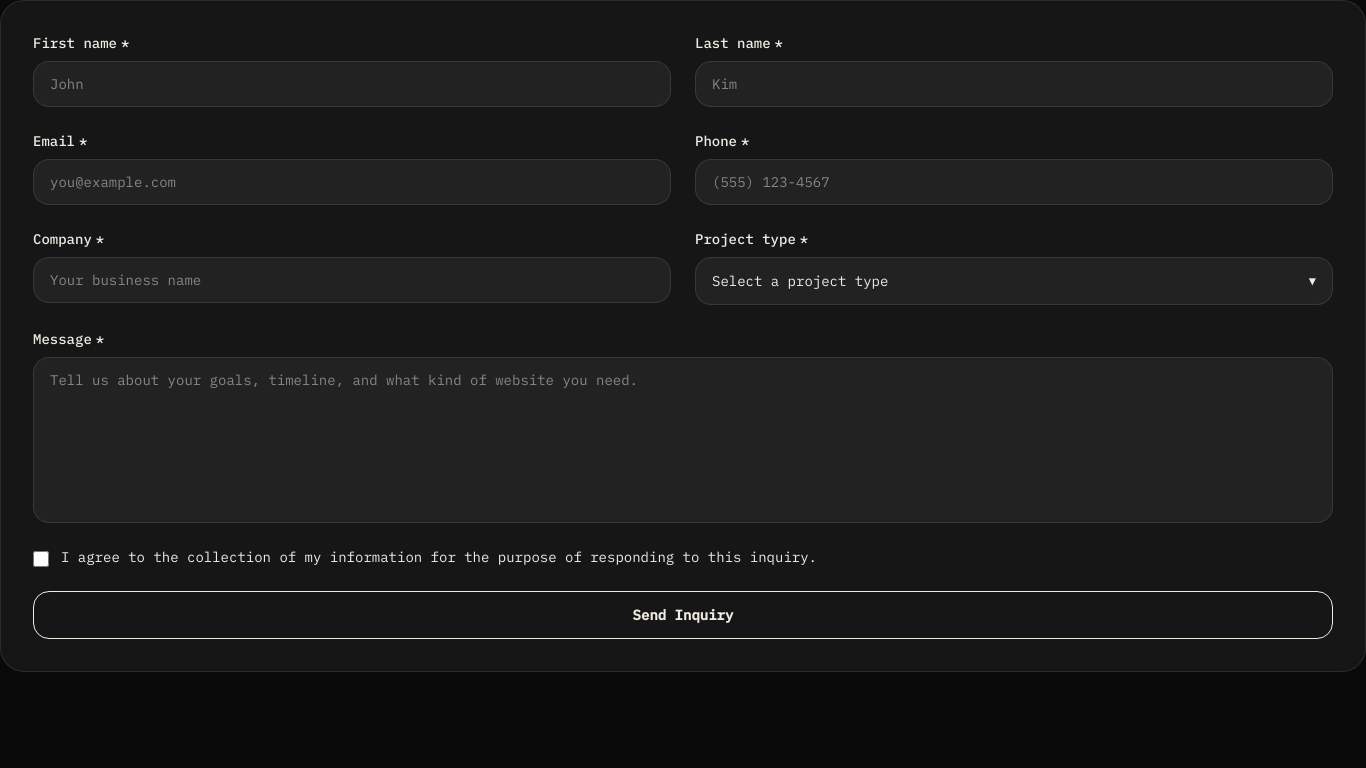
ContactForm › shows a phone validation error when fewer than 10 digits are entered
Type "555123456" into the field labelled "Phone*" at (1014, 182), box [695, 159, 1333, 205]
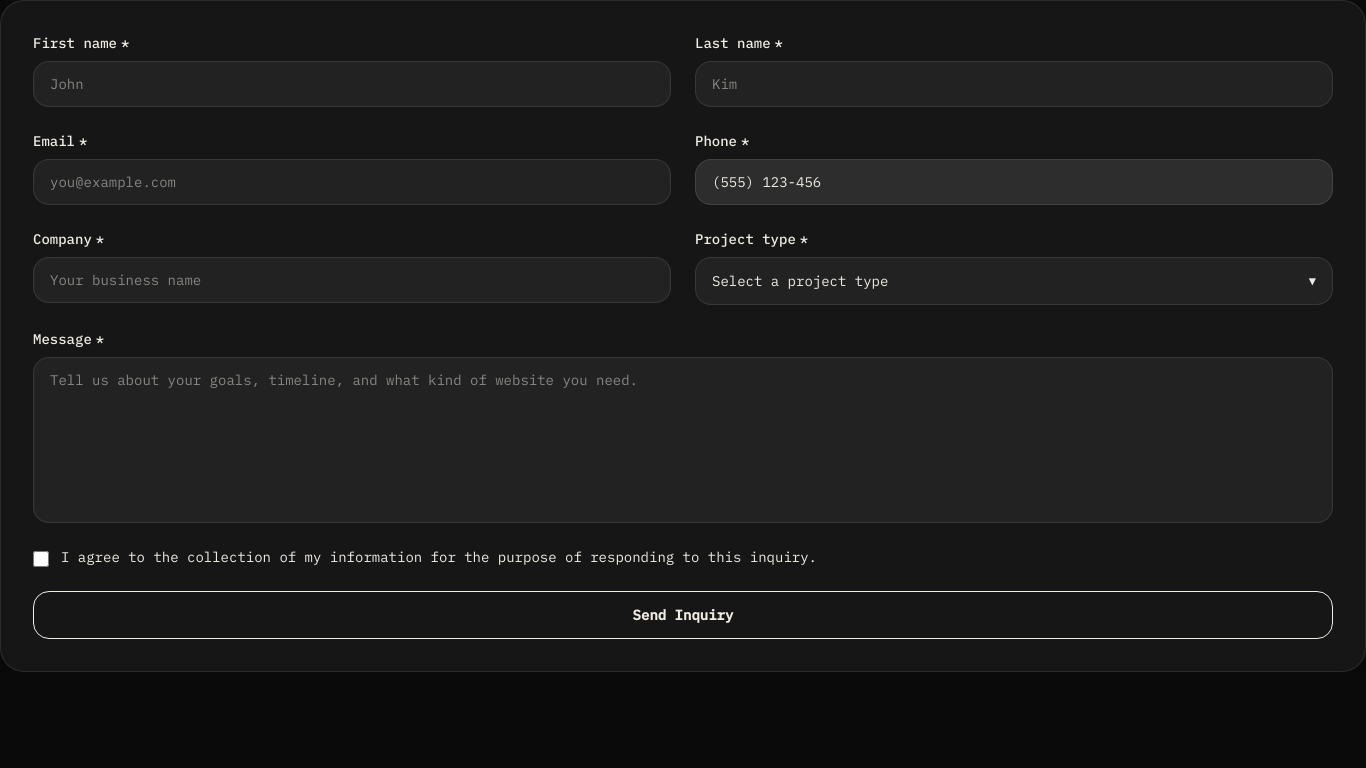
Press Tab
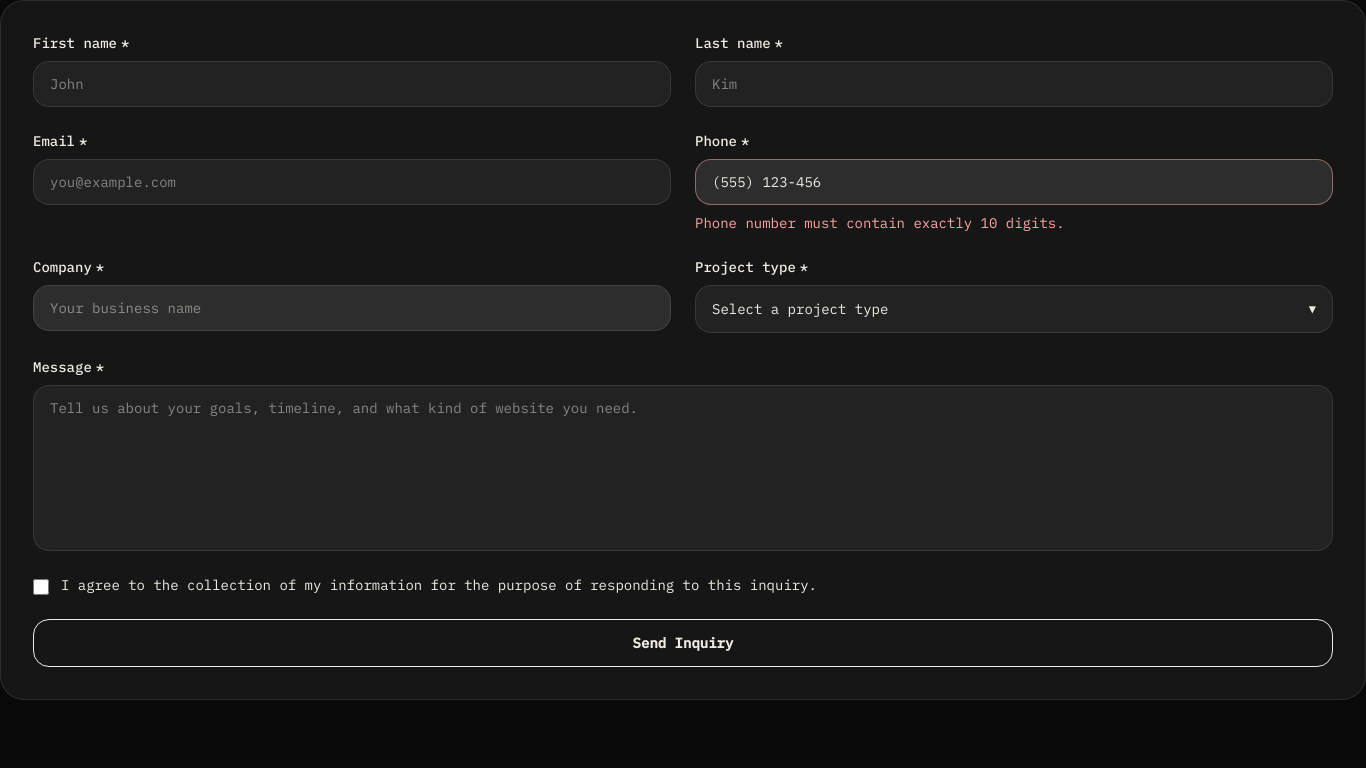
expect the text "Phone number must contain exactly 10 digits." is shown: met, box [695, 214, 1065, 232]
